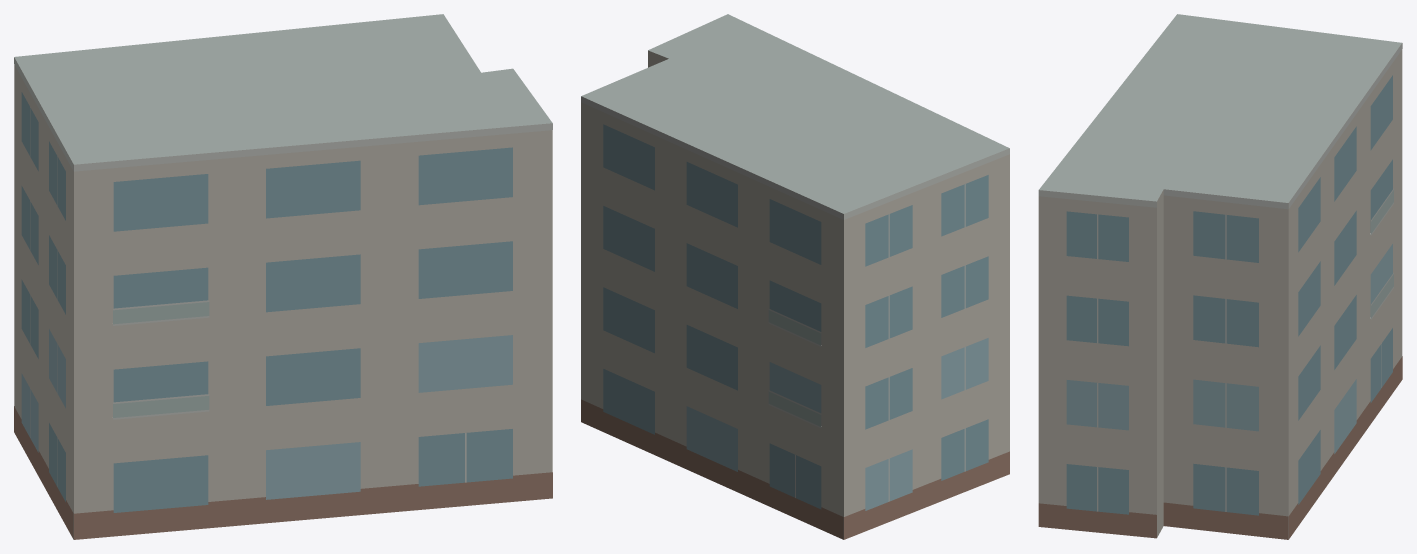
Rendered from survey-upis-32614282.glb.
3 views of the same model, side by side, from view 1: azimuth 30°, elevation 25°; view 2: azimuth 150°, elevation 25°; view 3: azimuth 270°, elevation 25° (orthographic). The views are drawn at different scales.
Visible parts, largest first — view 1: survey-upis-32614282.tmp; view 2: survey-upis-32614282.tmp; view 3: survey-upis-32614282.tmp.
Part boxes in pixels (bbox=[...]): survey-upis-32614282.tmp: bbox=[14, 14, 552, 539]; survey-upis-32614282.tmp: bbox=[581, 14, 1009, 539]; survey-upis-32614282.tmp: bbox=[1038, 14, 1402, 539].
Bounding box in the file's own units: 15.9 × 13.2 × 12.93.
